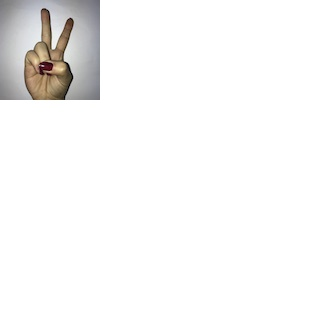scissors: (18, 3, 85, 99)
